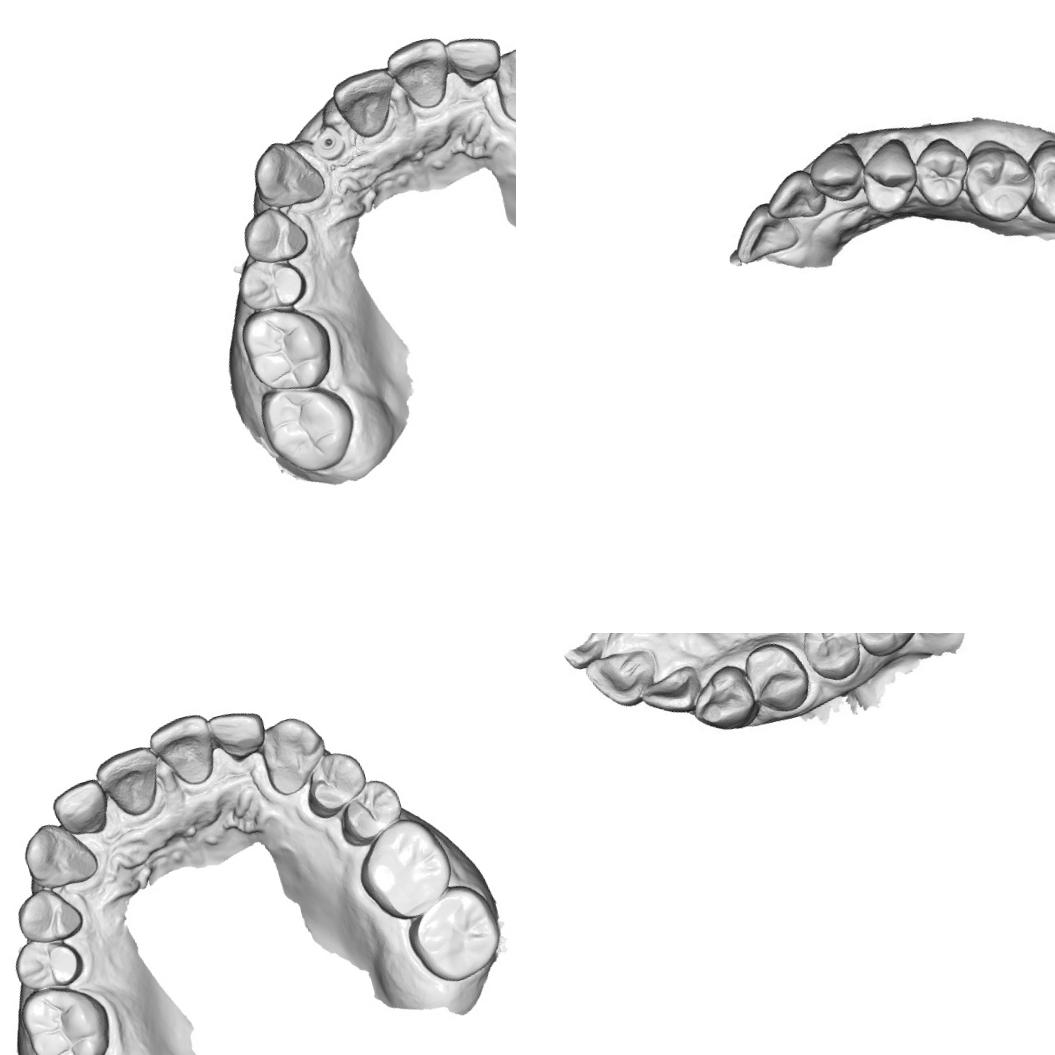canine: (11, 811, 105, 899), (251, 706, 336, 801), (244, 134, 328, 218), (682, 658, 759, 739), (804, 138, 868, 208), (481, 36, 516, 127)
implant: (304, 119, 353, 165)
incisor: (142, 706, 225, 796), (380, 31, 460, 118), (325, 60, 405, 146), (89, 740, 169, 825), (582, 640, 664, 713), (722, 196, 803, 268), (438, 26, 512, 99), (45, 774, 119, 844), (202, 701, 272, 769), (760, 165, 826, 226), (638, 663, 706, 722)
molar: (344, 808, 462, 930), (396, 875, 512, 994), (250, 372, 366, 486), (232, 295, 342, 402), (949, 132, 1043, 234), (12, 974, 121, 1055), (1009, 128, 1055, 231), (841, 633, 923, 661)
premolar: (902, 128, 980, 215), (848, 134, 926, 220), (294, 742, 374, 824), (328, 771, 408, 850), (4, 926, 88, 1001), (740, 636, 815, 720), (230, 245, 314, 318), (235, 198, 316, 272), (10, 880, 88, 953), (794, 633, 867, 685)
